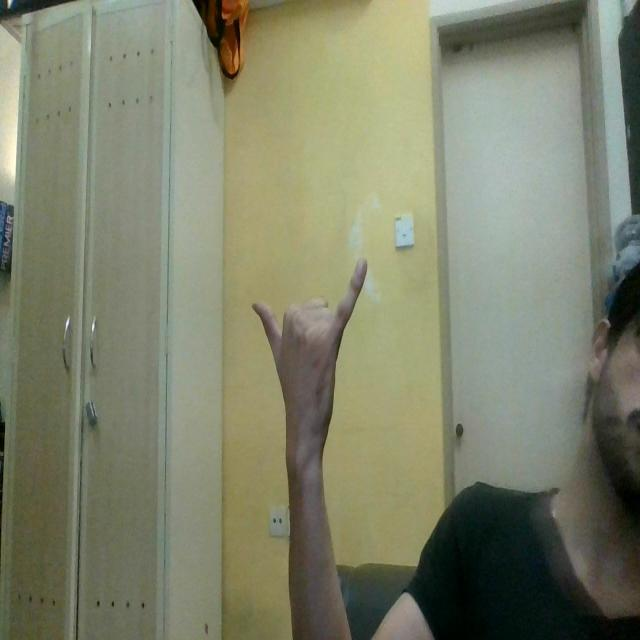shaka: (248, 258, 372, 467)
